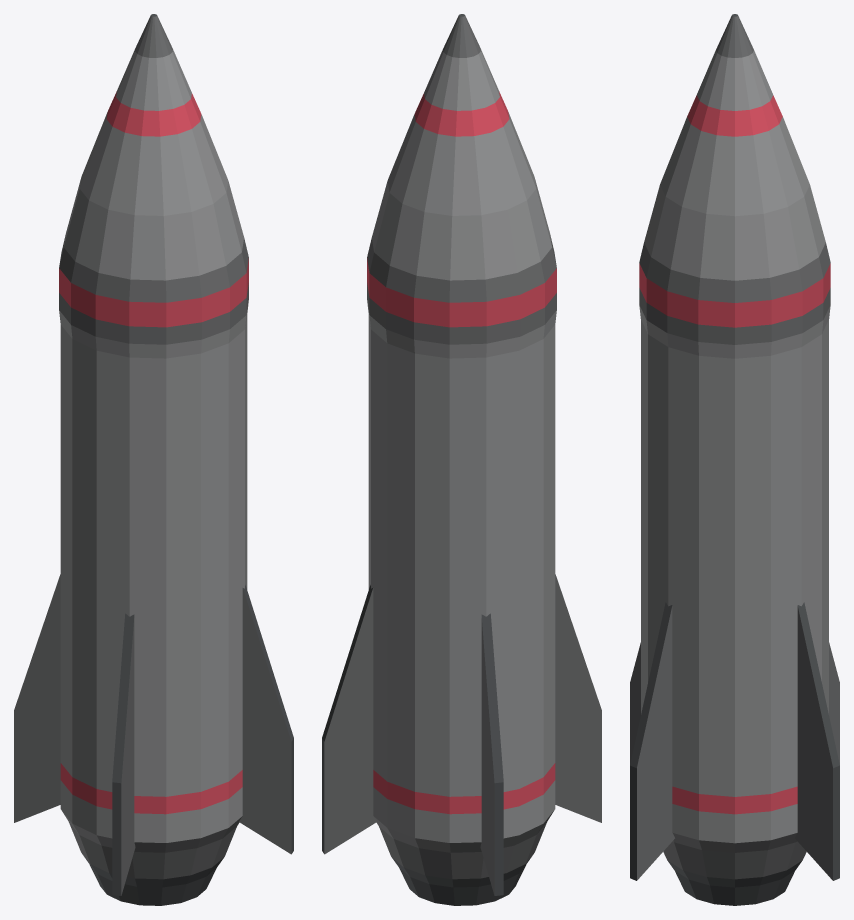
Rendered from T1Missile.fbx.
3 renders of one model, left to right at view 1: azimuth 30°, elevation 25°; view 2: azimuth 150°, elevation 25°; view 3: azimuth 270°, elevation 25°, orthographic.
Visible parts, largest first — view 1: MissileMesh; view 2: MissileMesh; view 3: MissileMesh.
Part boxes in pixels (left/top/right/bottom): MissileMesh: left=14, top=14, right=293, bottom=905; MissileMesh: left=322, top=14, right=601, bottom=905; MissileMesh: left=630, top=14, right=839, bottom=905.
Bounding box in the file's own units: 0.1315 × 0.6 × 0.1315.
